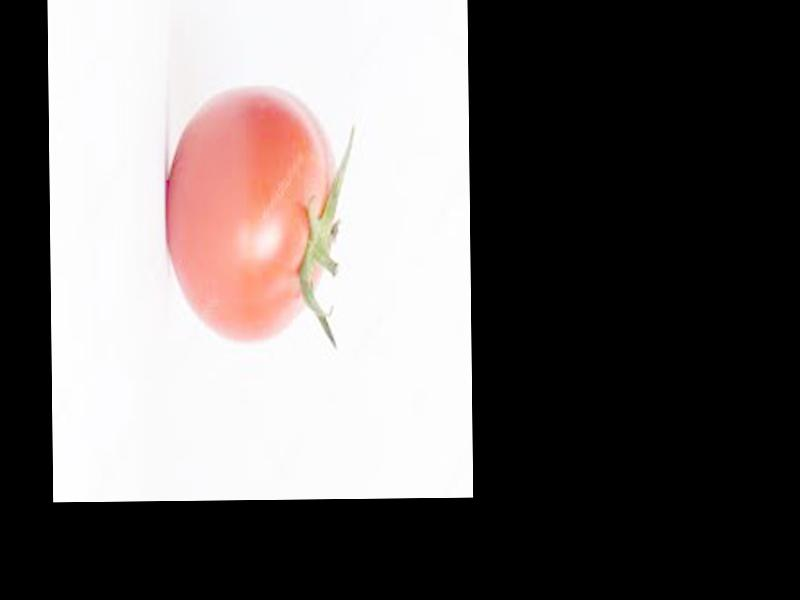Tomato: (163, 81, 335, 342)
